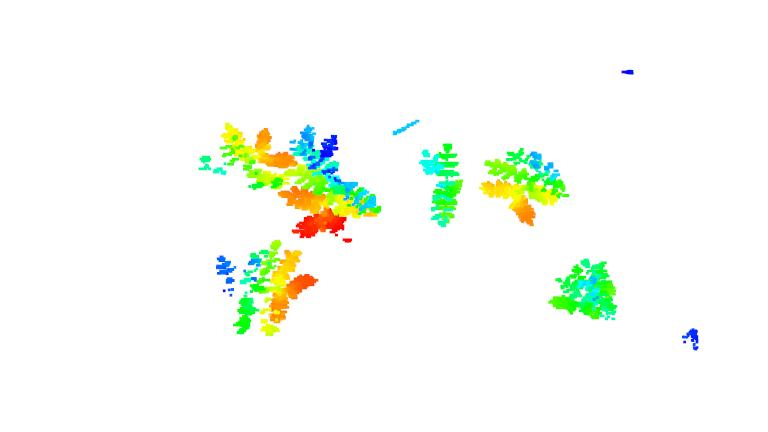chickpea: (282, 123, 380, 240), (216, 234, 320, 337), (477, 145, 571, 229), (201, 119, 295, 194), (546, 255, 620, 325), (417, 140, 464, 229)
